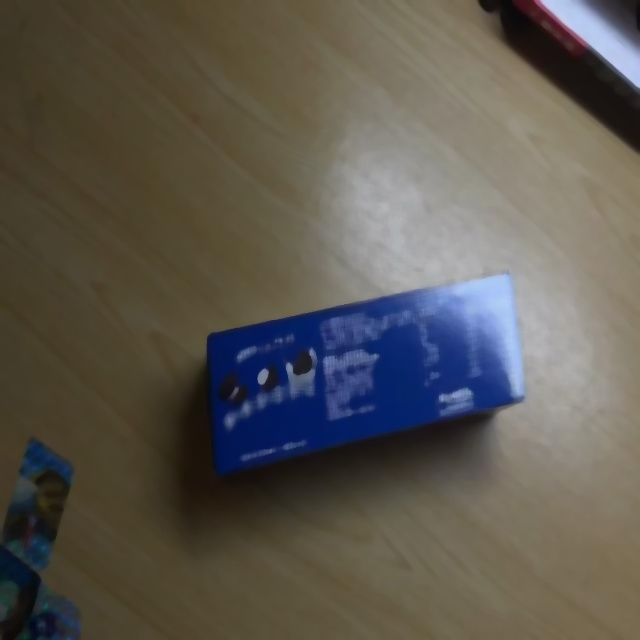Oreo: (208, 268, 530, 475)
